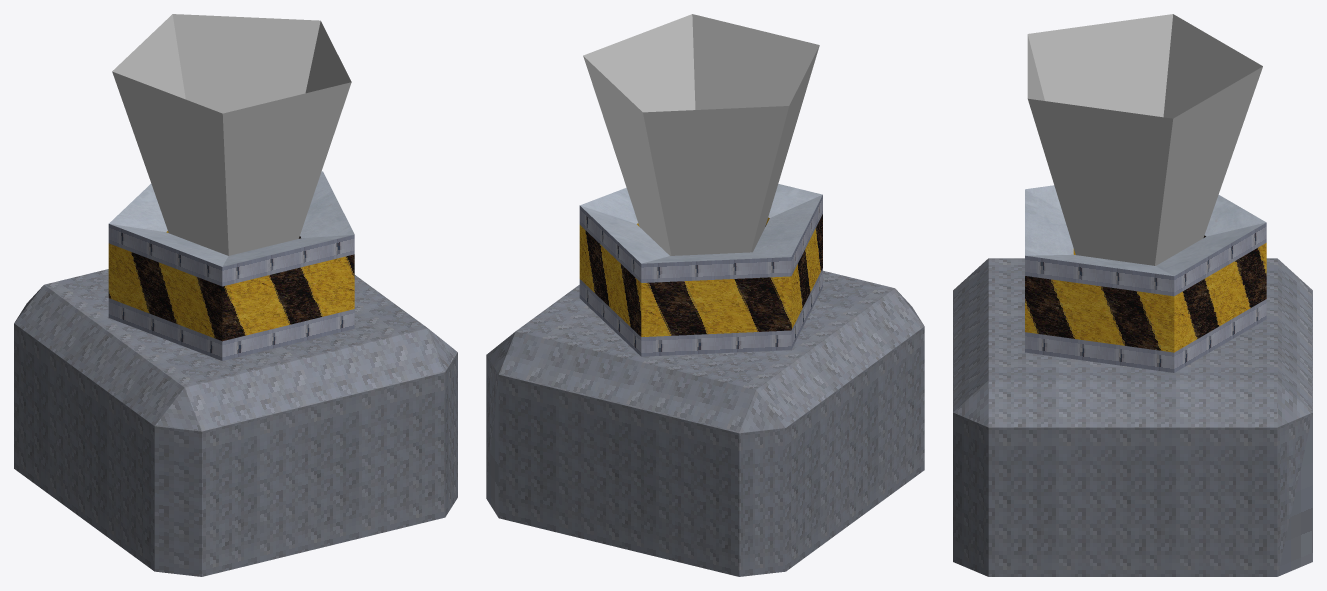
File: gem_socket.dae
3 views of the same model, side by side, from view 1: azimuth 30°, elevation 25°; view 2: azimuth 150°, elevation 25°; view 3: azimuth 270°, elevation 25° (orthographic). The views are drawn at different scales.
Visible parts, largest first — view 1: socket, ray; view 2: socket, ray; view 3: socket, ray.
Part boxes in pixels (<box>): socket: <box>14,171,457,576</box>; ray: <box>112,14,351,255</box>; socket: <box>486,184,924,576</box>; ray: <box>583,14,819,255</box>; socket: <box>953,185,1312,576</box>; ray: <box>1027,14,1262,265</box>.
Bounding box in the file's own units: 17.25 × 17.25 × 22.98.
Materials: 5 (4 with a texture image).
